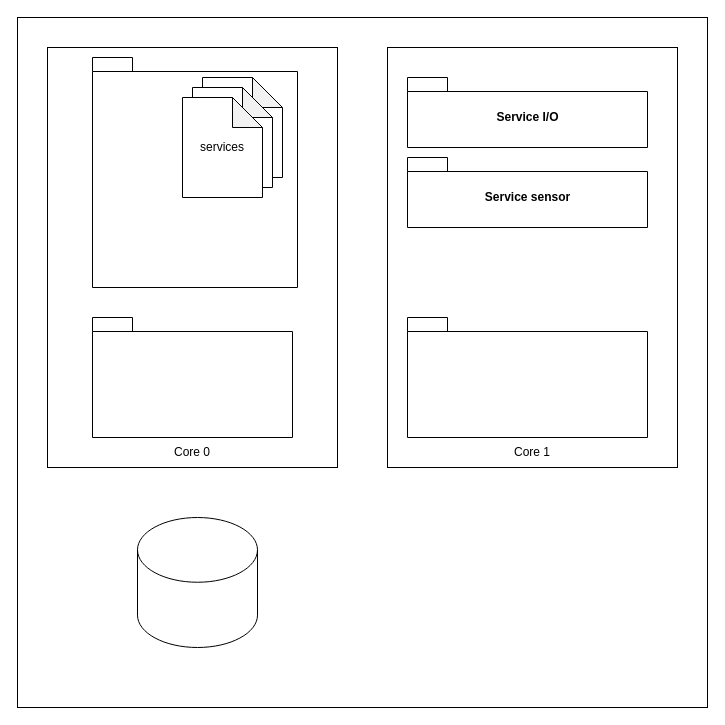
This 725x725 diagram has some shape labels left out. Each missing label, with the centre of its shape:
"Database" goes at (x=197, y=582).
"Service Artificial Intelligence" goes at (x=192, y=377).
"Service encryption" goes at (x=527, y=377).
